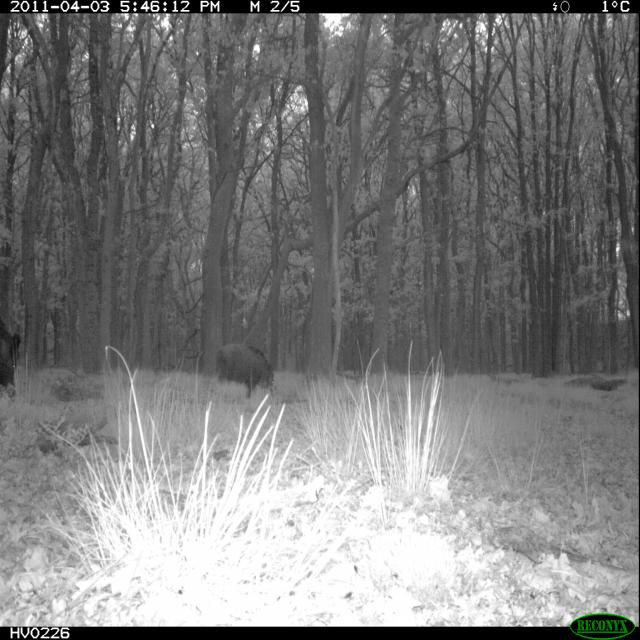boar: (193, 320, 283, 418), (0, 314, 22, 403)
